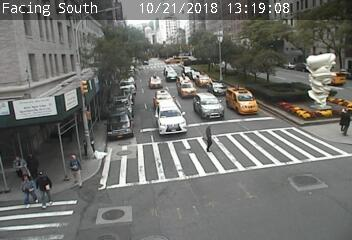car: (155, 103, 188, 133), (224, 87, 258, 114), (193, 93, 225, 118), (155, 90, 177, 109), (179, 80, 196, 96), (210, 83, 225, 96), (149, 76, 163, 88), (197, 75, 211, 87), (166, 70, 177, 80)
